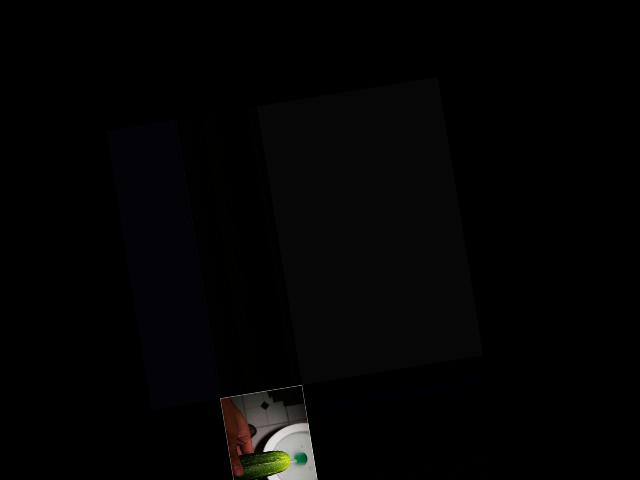cucumber: (229, 448, 292, 480)
